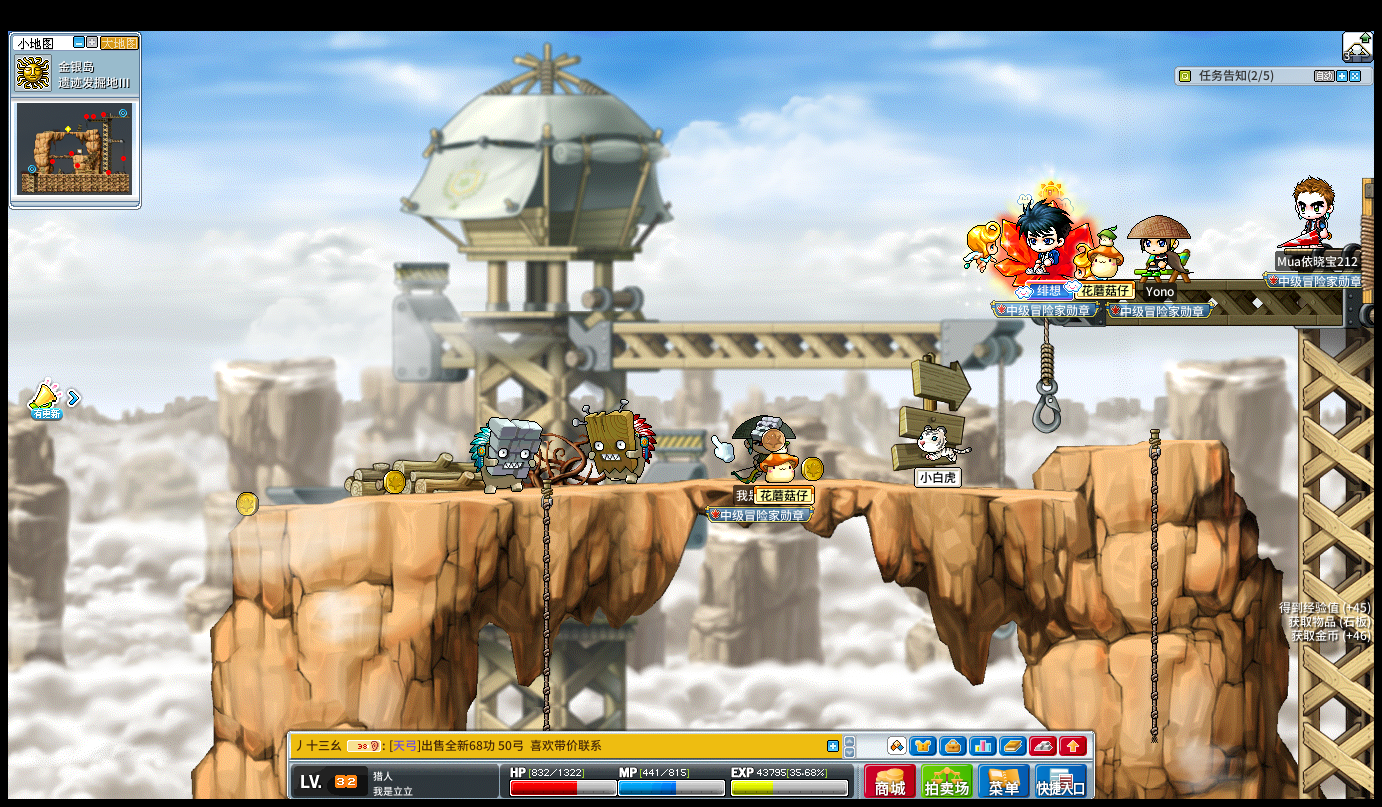floor: (230, 472, 1119, 504), (1055, 434, 1224, 450), (1054, 437, 1227, 452)
monster: (574, 400, 656, 485), (468, 417, 542, 496)
rope: (1145, 424, 1161, 746), (538, 475, 552, 696)
